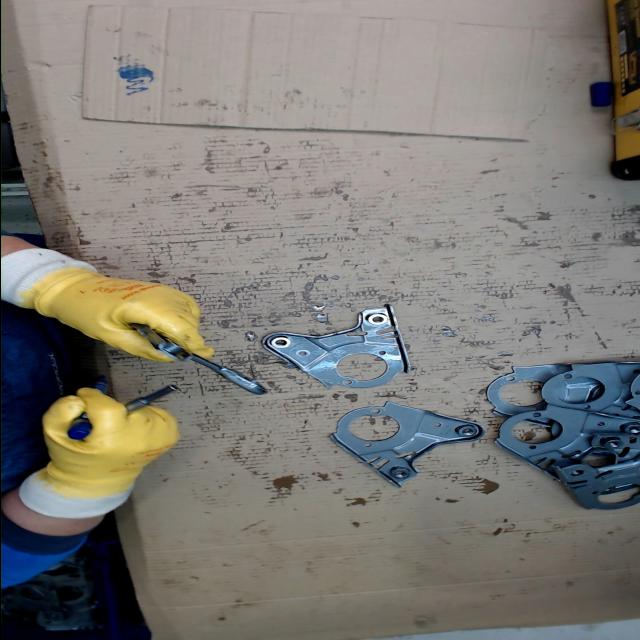hands: (49, 270, 216, 364), (37, 386, 180, 492)
